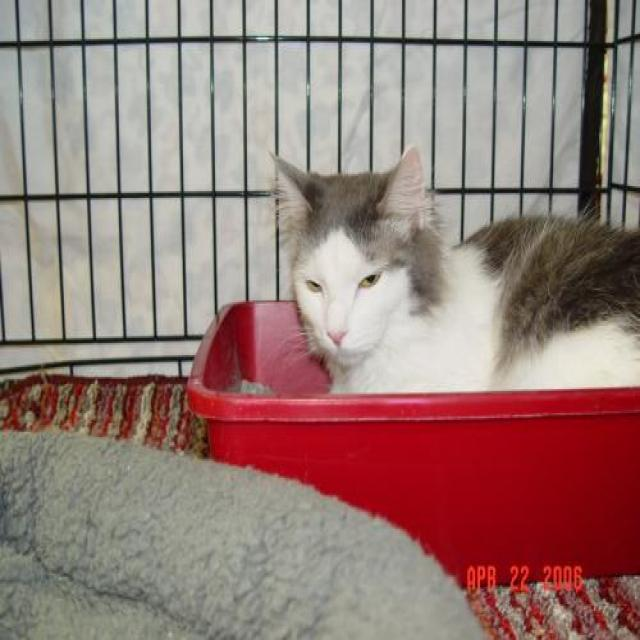Cats: (266, 142, 639, 394)
